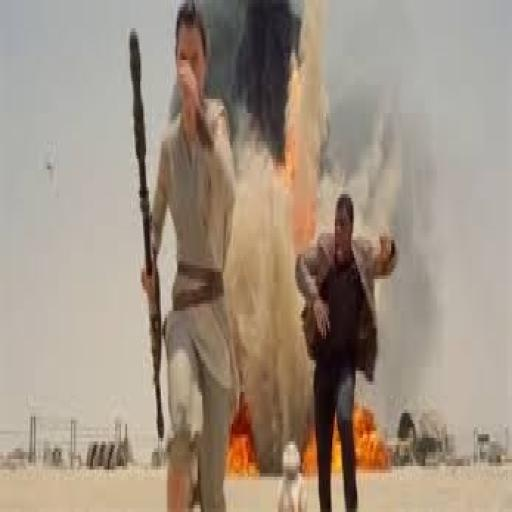running: (139, 4, 242, 508), (294, 187, 400, 509)
